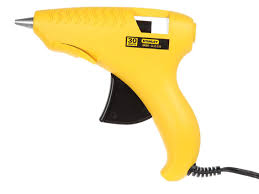Arma Falsa: (13, 7, 206, 181)
